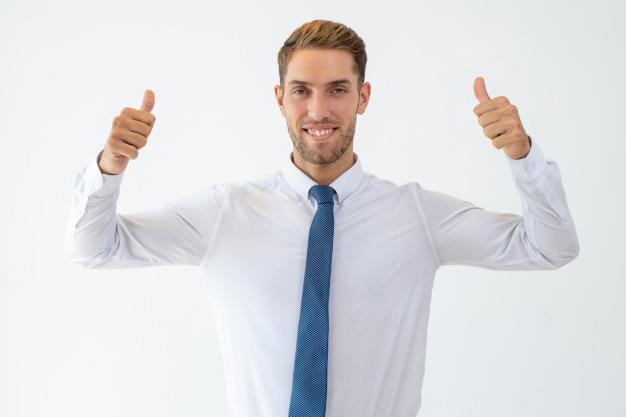thumbsup: (473, 77, 526, 149), (108, 89, 156, 159)
